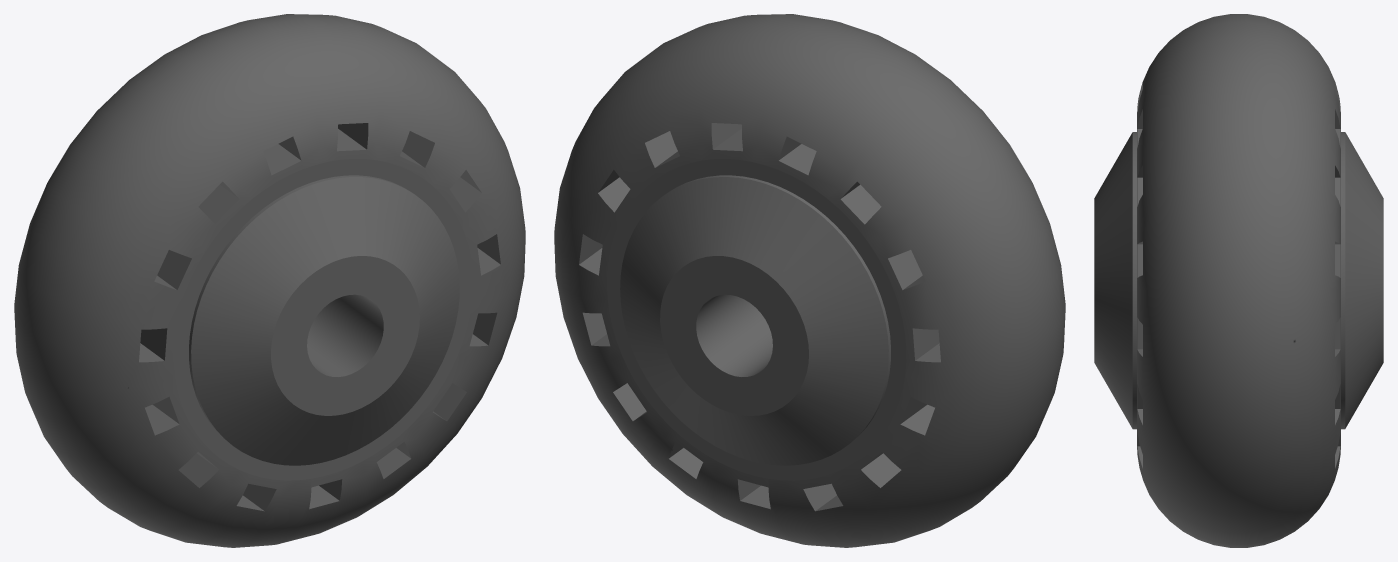
Rendered from caster_wheel.dae.
3 renders of one model, left to right at view 1: azimuth 30°, elevation 25°; view 2: azimuth 150°, elevation 25°; view 3: azimuth 270°, elevation 25°, orthographic. The views are drawn at different scales.
Visible parts, largest first — view 1: caster_wheel; view 2: caster_wheel; view 3: caster_wheel.
Boxes of the visible parts, x1=… form: caster_wheel: x1=14, y1=14, x2=525, y2=547; caster_wheel: x1=554, y1=14, x2=1065, y2=547; caster_wheel: x1=1094, y1=14, x2=1383, y2=547.
Bounding box in the file's own units: 0.0629 × 0.034 × 0.0628.
Materials: 1 (1 with a texture image).
